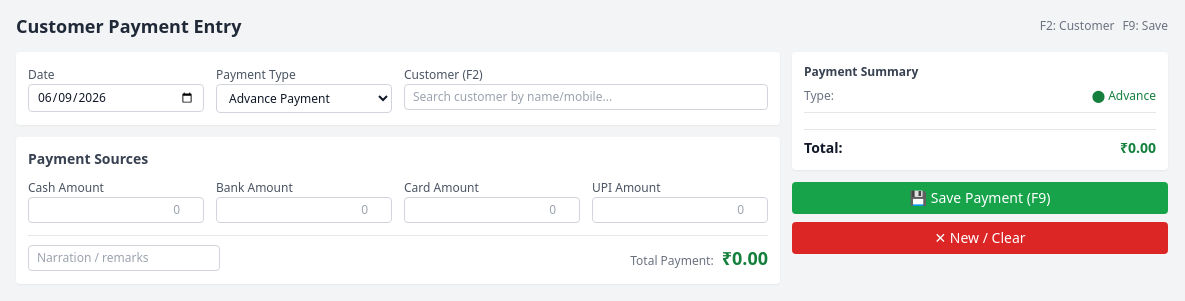
Scenario: CustomerPaymentEntry › clears form on New/Clear button
The image size is (1185, 301).
Type "5000" into the number field with placeholder "0" below "Cash Amount".
click(116, 210); type("5000")  # box [28,197,204,223]
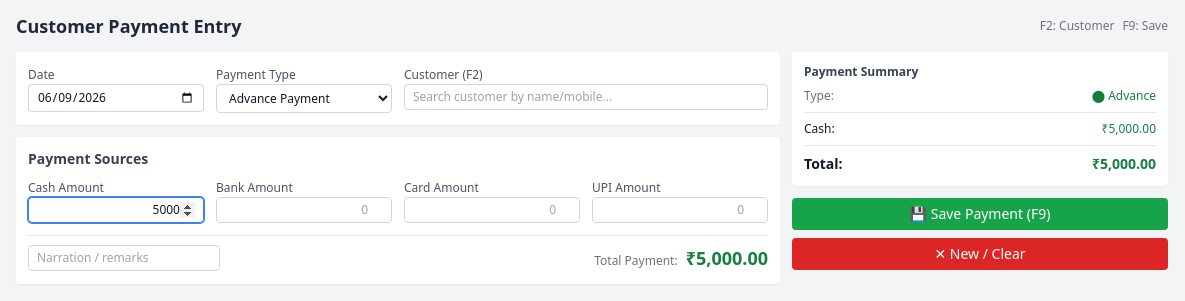
Click the button "✕ New / Clear".
click(980, 254)  # box [792,238,1168,270]
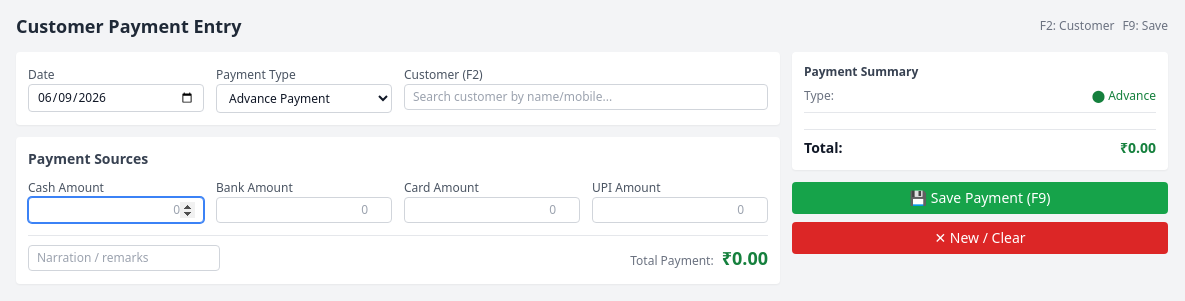
Check: the number field with placeholder "0" below "Cash Amount" is empty, box [28,197,204,223]
